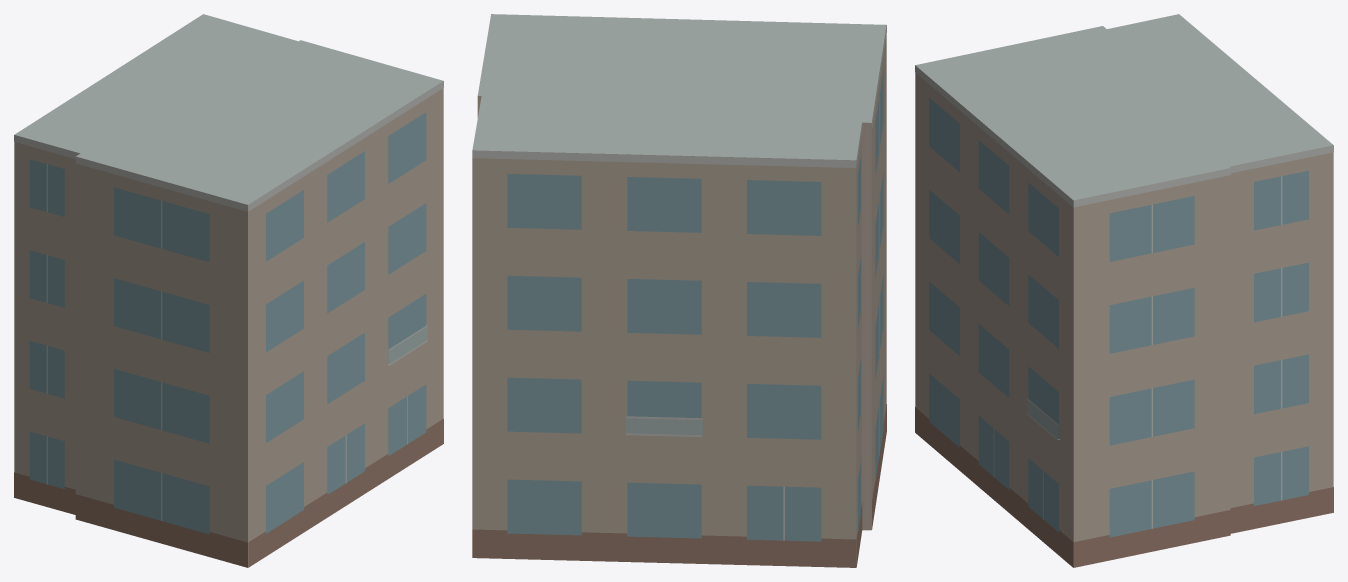
File: survey-upis-32905434.glb
The picture shows the model from 3 angles, left to right: view 1: azimuth 30°, elevation 25°; view 2: azimuth 150°, elevation 25°; view 3: azimuth 270°, elevation 25°; orthographic projection. The views are drawn at different scales.
Visible parts, largest first — view 1: survey-upis-32905434.tmp; view 2: survey-upis-32905434.tmp; view 3: survey-upis-32905434.tmp.
Part boxes in pixels (left/top/right/bottom): survey-upis-32905434.tmp: left=14, top=14, right=443, bottom=567; survey-upis-32905434.tmp: left=472, top=14, right=886, bottom=567; survey-upis-32905434.tmp: left=915, top=14, right=1333, bottom=567.
Bounding box in the file's own units: 13.94 × 12.8 × 13.23.
